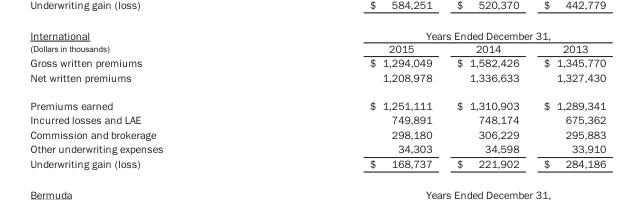table: (29, 28, 605, 169)
table column: (29, 28, 265, 169), (265, 28, 443, 169), (443, 28, 530, 169), (530, 28, 605, 169)
table column header: (29, 28, 605, 55)
table row: (29, 90, 605, 112), (29, 69, 605, 90), (29, 126, 605, 141), (29, 41, 605, 55), (29, 55, 605, 69), (29, 112, 605, 126), (29, 141, 605, 155), (29, 155, 605, 169), (29, 28, 605, 41)
table spanning cell: (29, 28, 265, 55), (265, 28, 605, 41)
